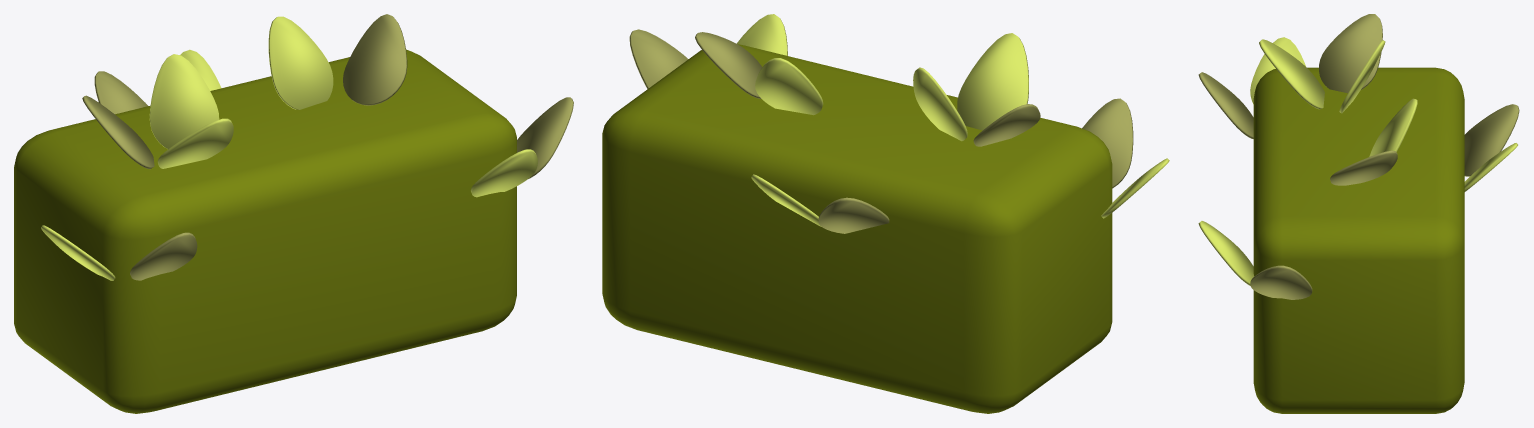
File: Semak semak.fbx
3 views of the same model, side by side, from view 1: azimuth 30°, elevation 25°; view 2: azimuth 150°, elevation 25°; view 3: azimuth 270°, elevation 25° (orthographic). The views are drawn at different scales.
Visible parts, largest first — view 1: Semak semak; view 2: Semak semak; view 3: Semak semak.
Boxes of the visible parts, left/top/right/bottom form: Semak semak: left=14, top=14, right=573, bottom=413; Semak semak: left=602, top=14, right=1169, bottom=413; Semak semak: left=1198, top=14, right=1519, bottom=413.
Bounding box in the file's own units: 1026 × 545 × 604.
